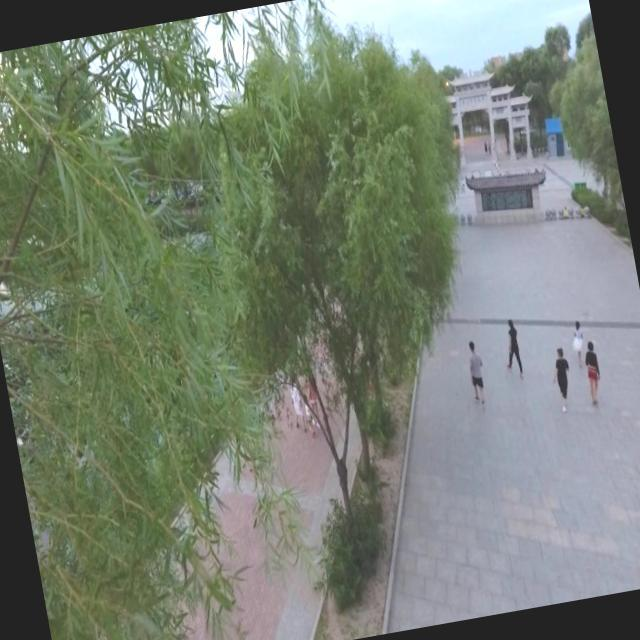person: (546, 344, 576, 412), (464, 339, 491, 413), (579, 338, 606, 406), (498, 316, 526, 379)
